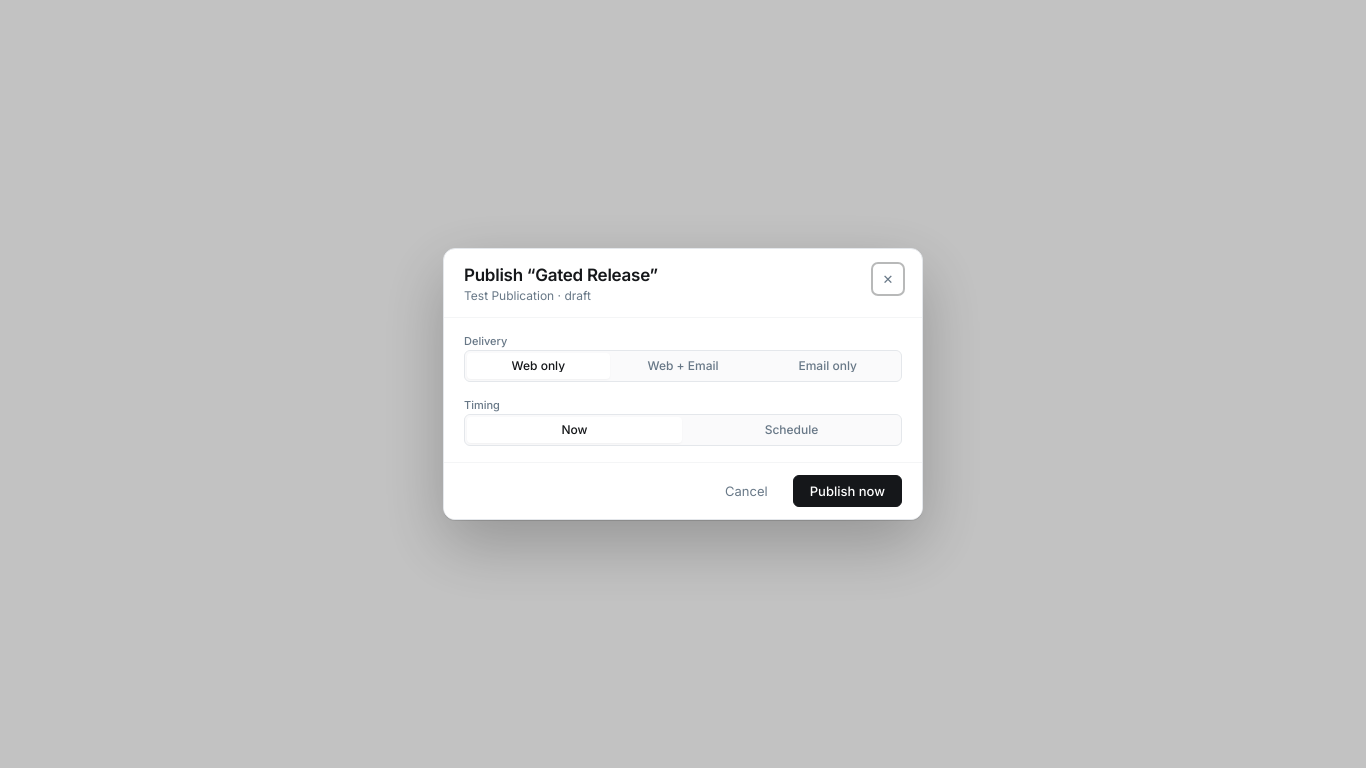
Test: PublishModal › disables publish button until the newsletter recipient checkbox is checked
Later steps or results of the test are not shown.
Expected: the button "Publish now" is enabled, [793,475,902,507]
Click the radio button labelled "Web + Email": x=683, y=366 [648,358,719,373]
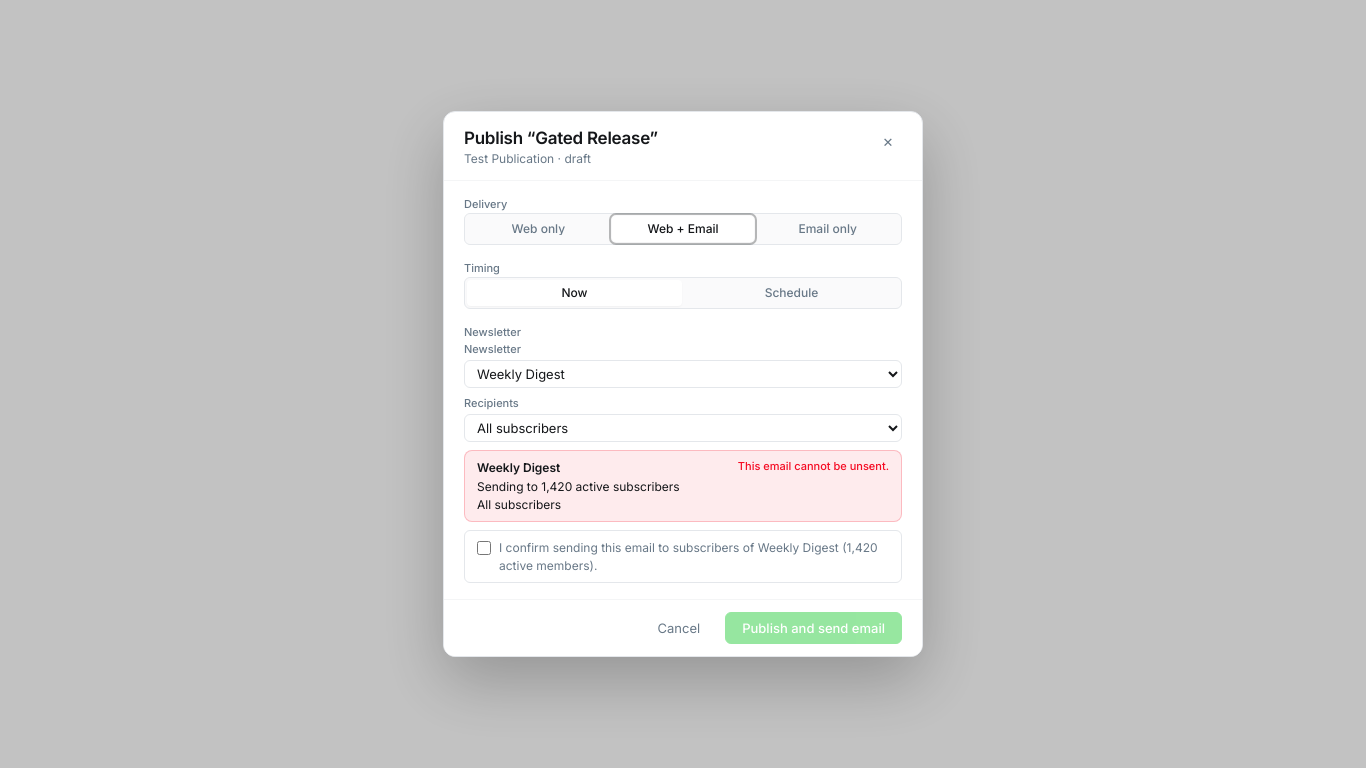
Now the button "Publish and send email" is disabled, box [725,612,902,644]
Now the checkbox labelled "I confirm sending this email to subscribers of" is not checked
Click the checkbox labelled "I confirm sending this email to subscribers of": x=484, y=548 [477,542,491,556]
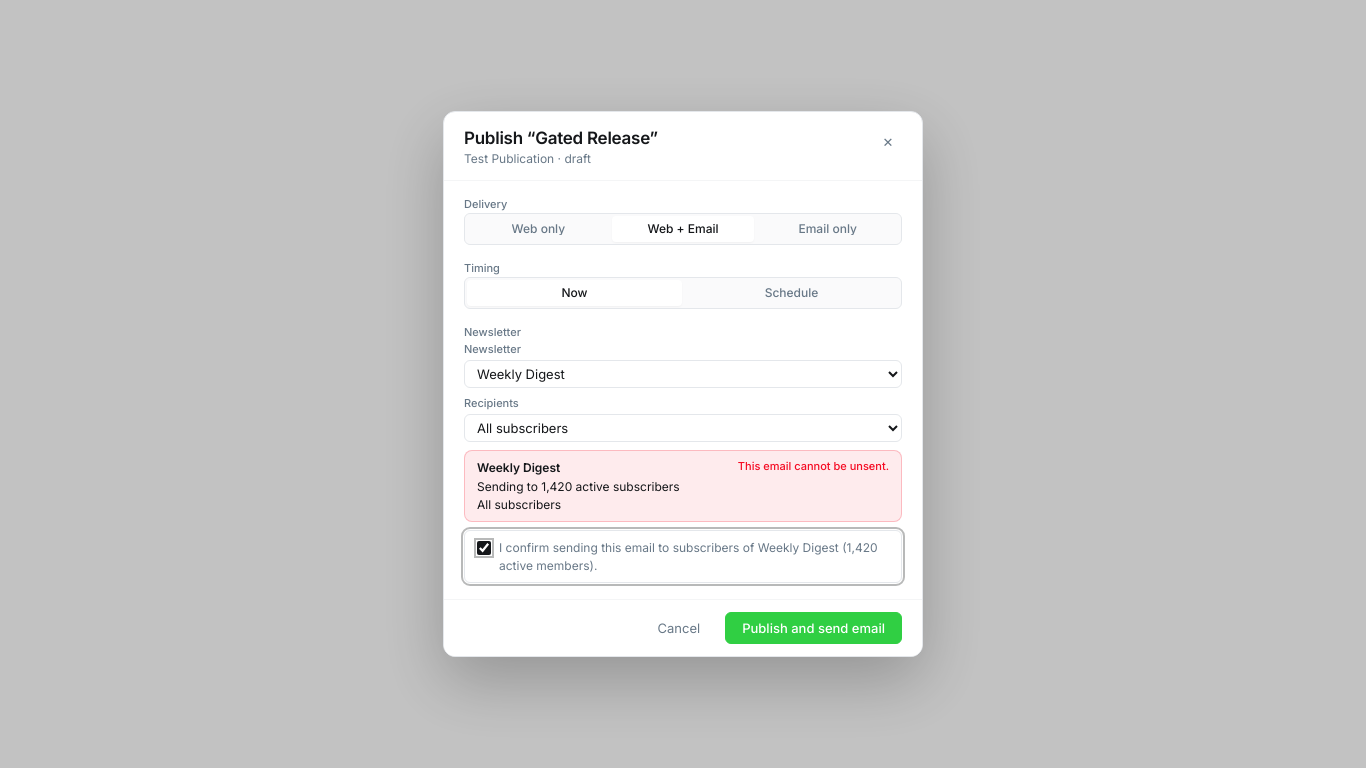
Now the checkbox labelled "I confirm sending this email to subscribers of" is checked
Now the button "Publish and send email" is enabled, box [725,612,902,644]
Note: Unchecking disables the submit button again.
Click the checkbox labelled "I confirm sending this email to subscribers of": x=484, y=548 [477,542,491,556]
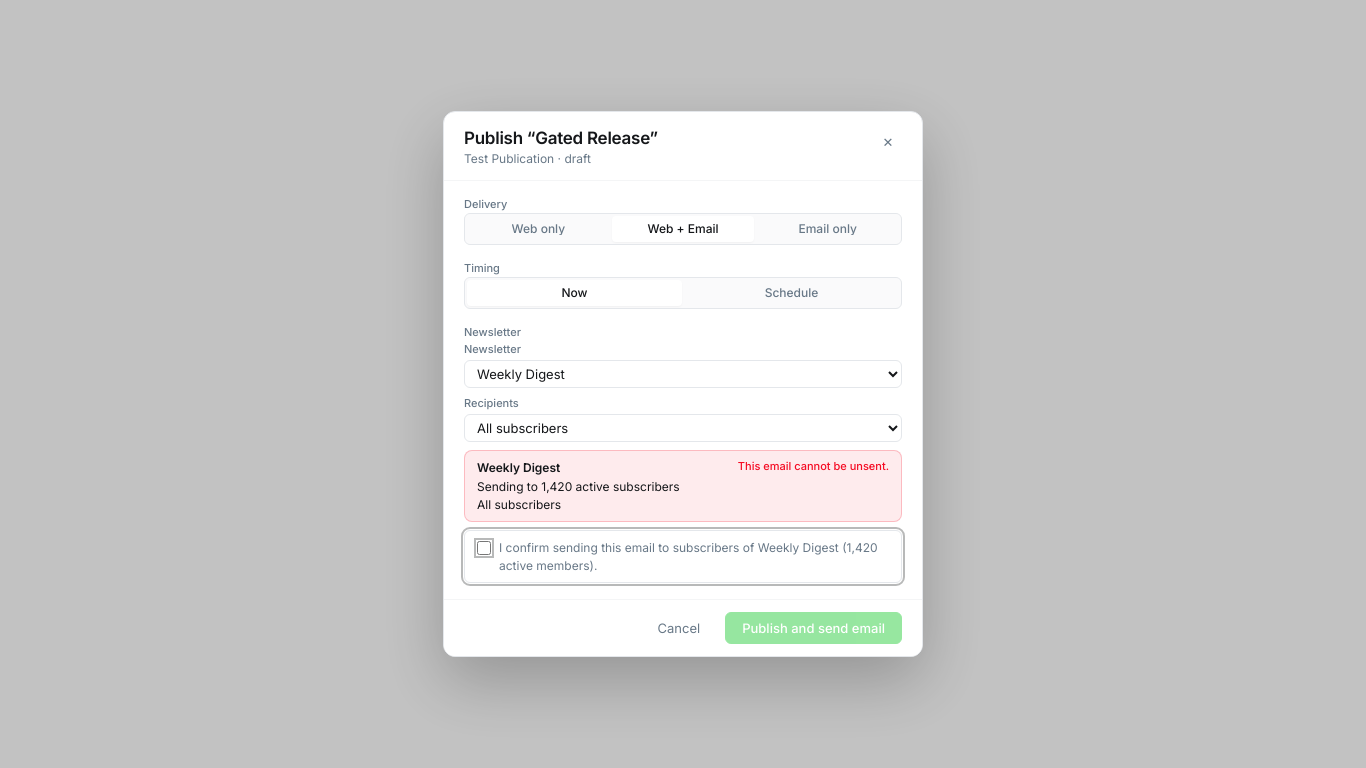
Now the checkbox labelled "I confirm sending this email to subscribers of" is not checked
Now the button "Publish and send email" is disabled, box [725,612,902,644]
Note: Re-checking and submitting invokes onExecute.
Click the checkbox labelled "I confirm sending this email to subscribers of": x=484, y=548 [477,542,491,556]
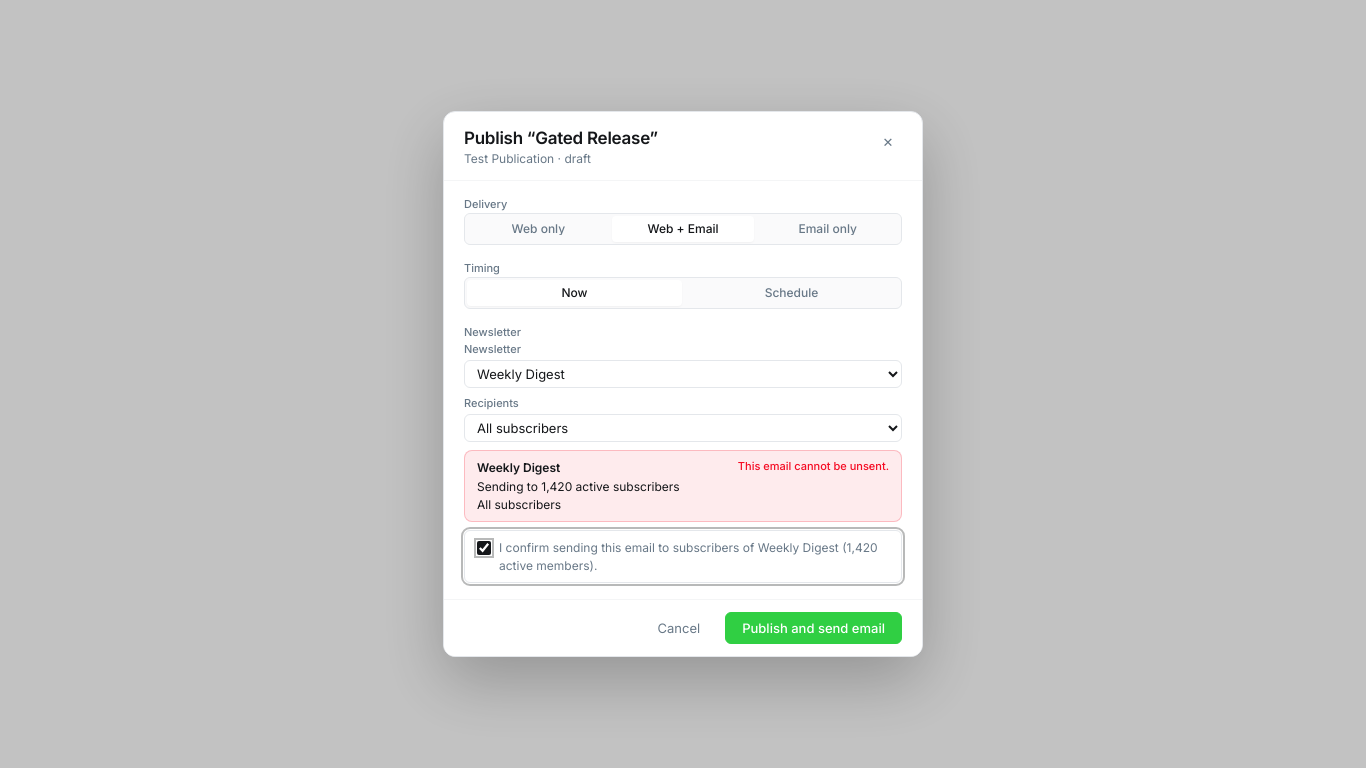
Now the button "Publish and send email" is enabled, box [725,612,902,644]
